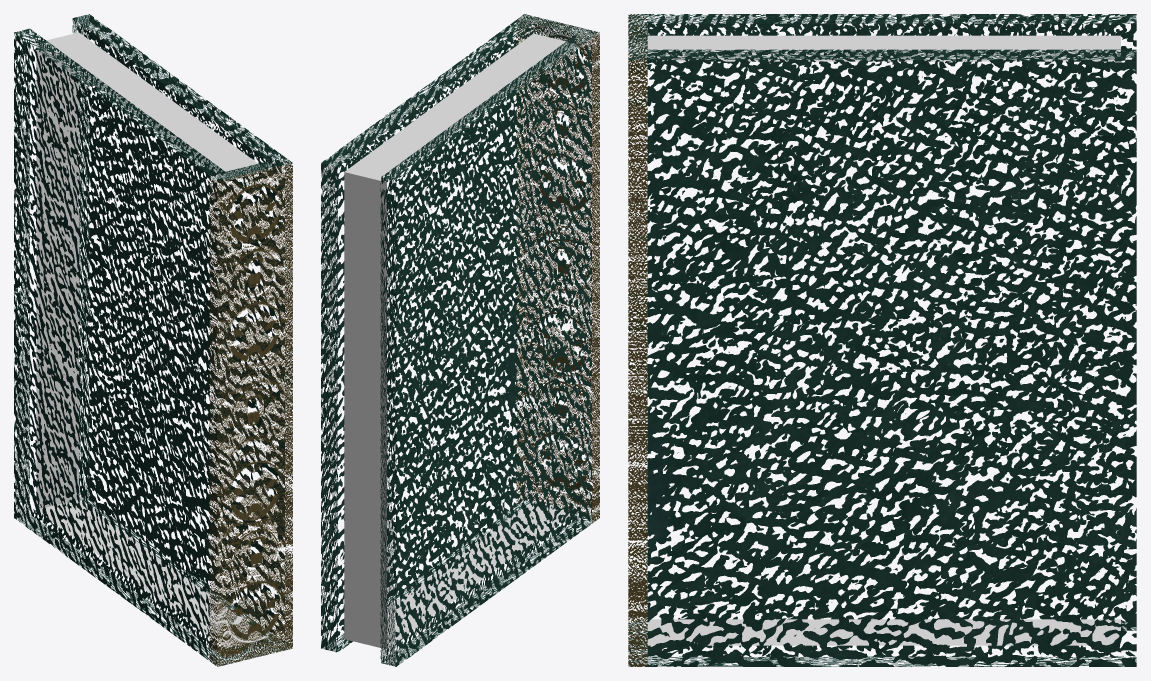
File: libro1.fbx
3 views of the same model, side by side, from view 1: azimuth 30°, elevation 25°; view 2: azimuth 150°, elevation 25°; view 3: azimuth 270°, elevation 25° (orthographic). The views are drawn at different scales.
Visible parts, largest first — view 1: Cube.001; view 2: Cube.001; view 3: Cube.001.
Part boxes in pixels (<box>): Cube.001: <box>14,14,292,666</box>; Cube.001: <box>321,14,599,666</box>; Cube.001: <box>628,14,1136,666</box>.
Size of the model in its own units: 176 by 1083 by 822.
